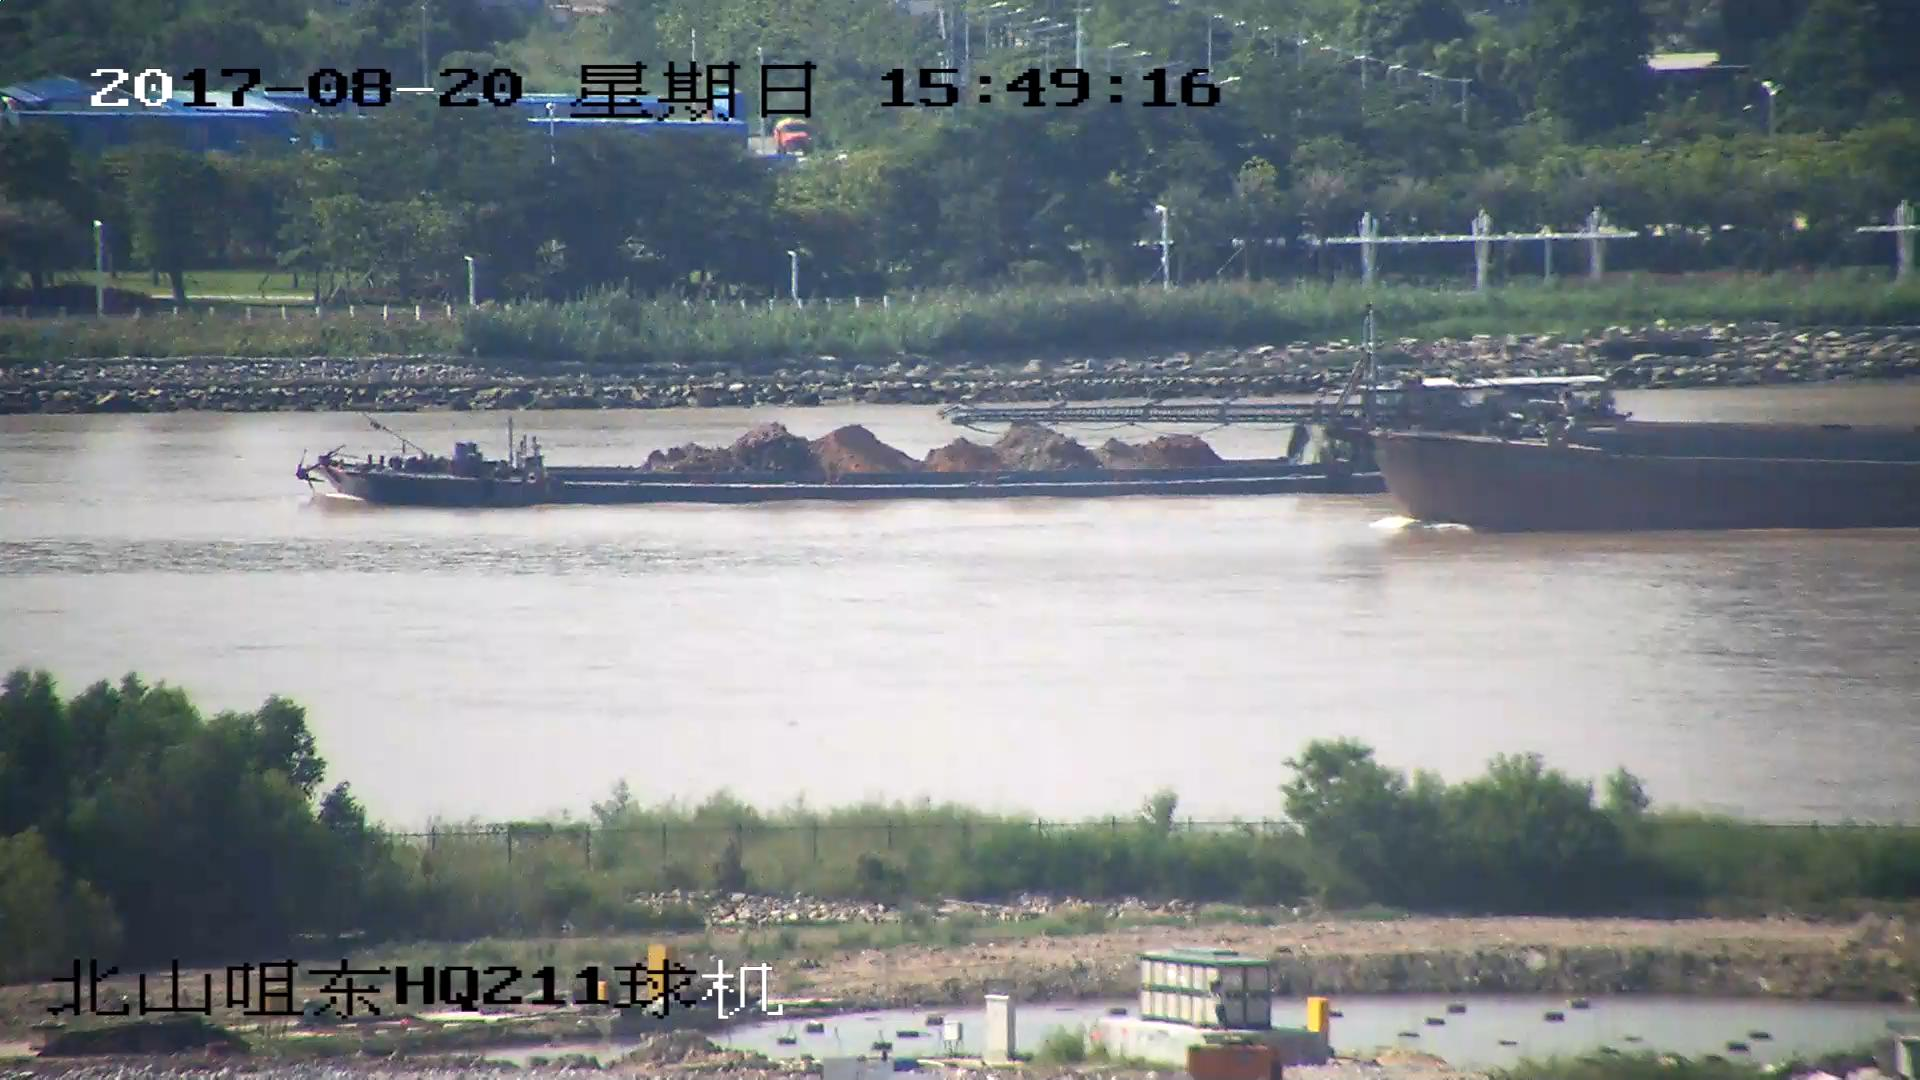bulk cargo carrier: (959, 320, 1920, 534)
ore carrier: (301, 359, 1627, 508)
